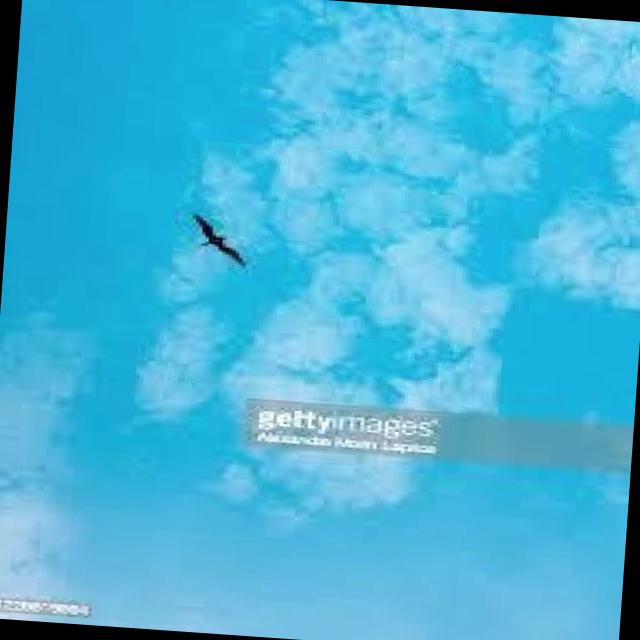bird: (176, 209, 252, 270)
